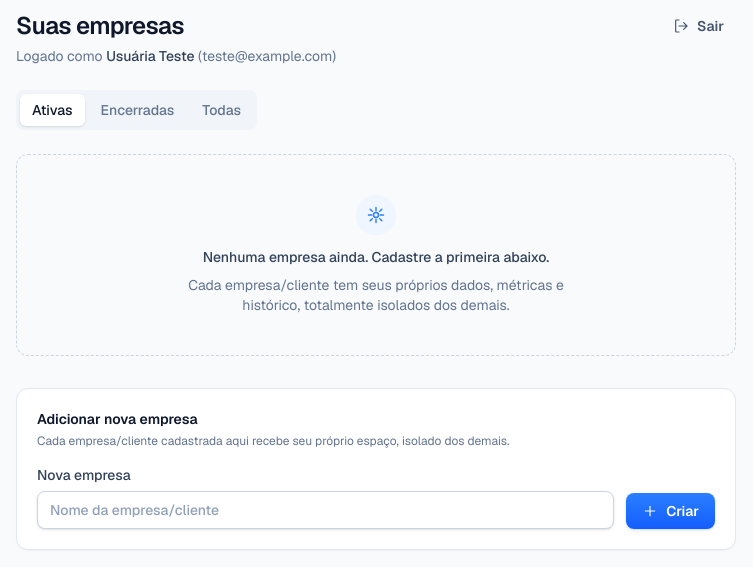
Scenario: OrganizationsPage › permite criar uma nova empresa pelo formulário
The width and height of the screenshot is (753, 567).
Check: the text "Nenhuma empresa ainda. Cadastre a primeira abaixo." is shown, box [203, 247, 549, 267]
Type "Nova Empresa Criada" into the field labelled "Nova empresa". click: [326, 510]
box: [37, 491, 614, 529]
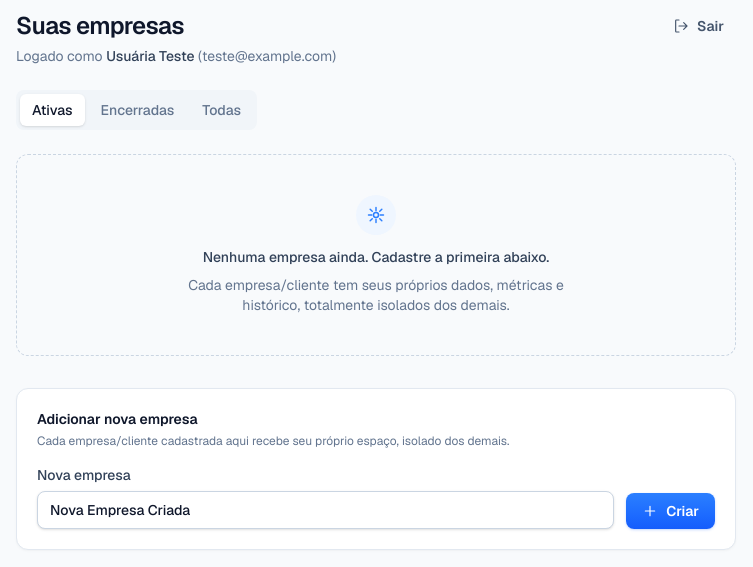
Submit the form "Criar", box [37, 465, 715, 529]
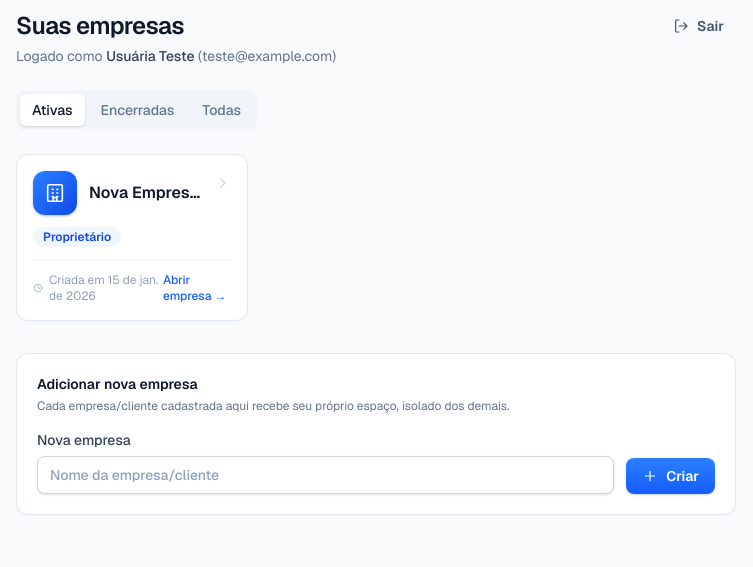
Check: the text "Nova Empresa Criada" is shown, box [89, 181, 203, 205]
